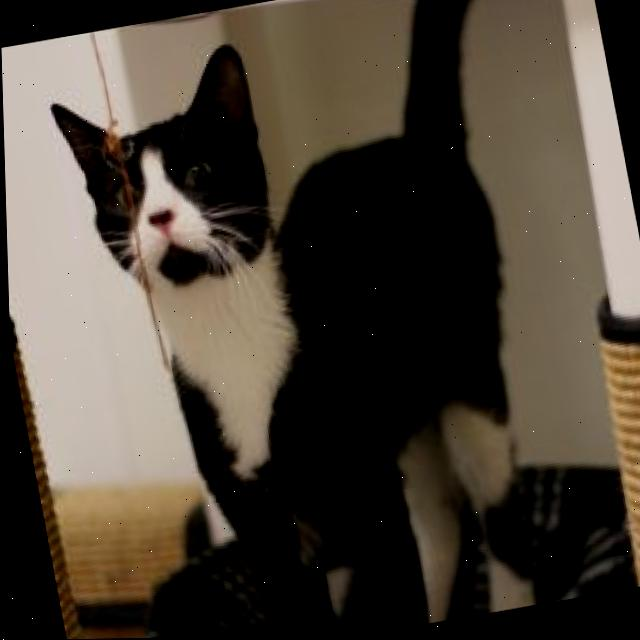Tuxedo: (34, 0, 598, 640)
